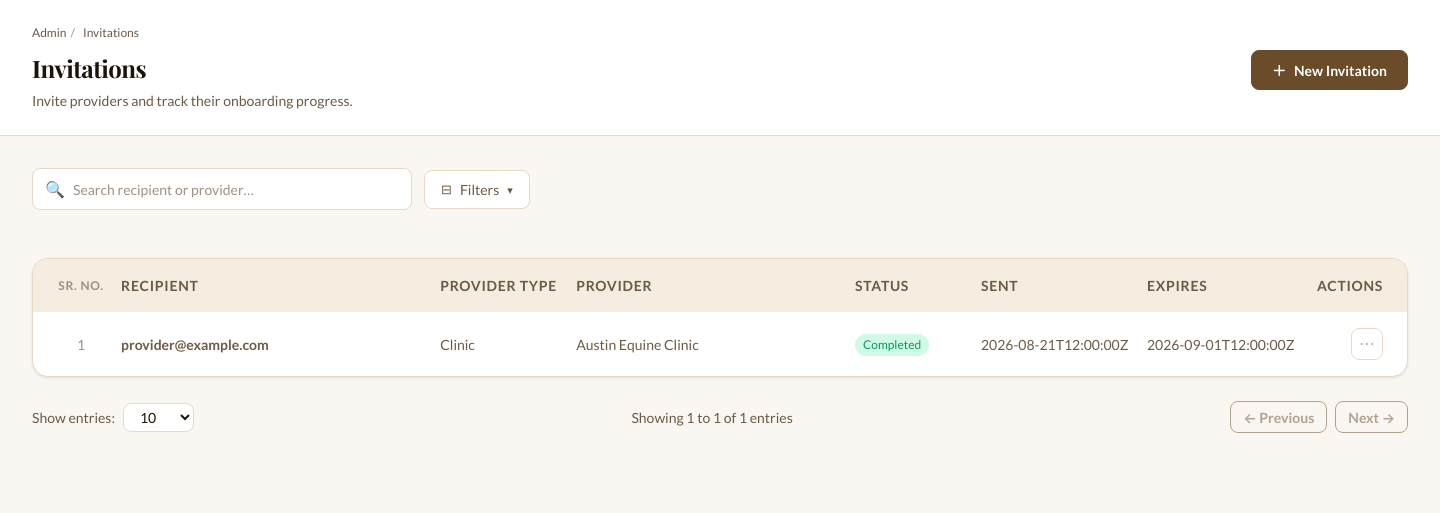
Scenario: InvitationsPage › renders the submitted-details and portal-access action icons for completed invitations
This screenshot has width=1440, height=513.
expect the text "provider@example.com" is shown: met, box [121, 336, 269, 352]
Click the button named "Actions for provider@example.com" at coordinates (1367, 344), box [1351, 328, 1383, 360]
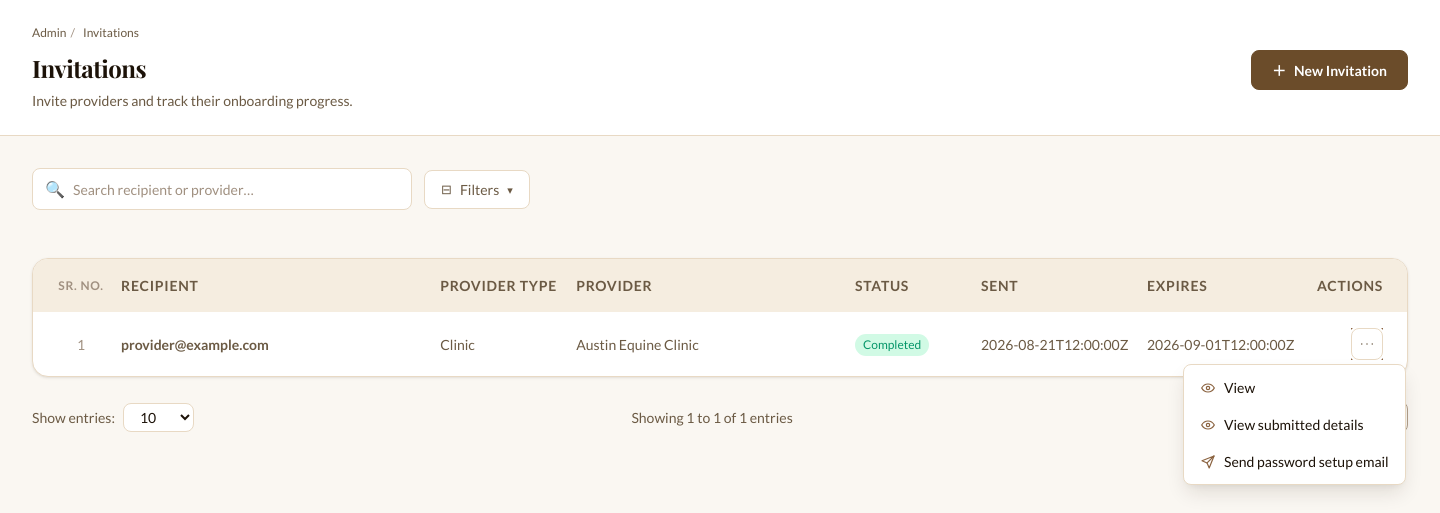
expect the menu item "View" is shown: met, box [1188, 369, 1401, 406]
expect the menu item "View submitted details" is shown: met, box [1188, 406, 1401, 443]
expect the menu item "Send password setup email" is shown: met, box [1188, 443, 1401, 480]
